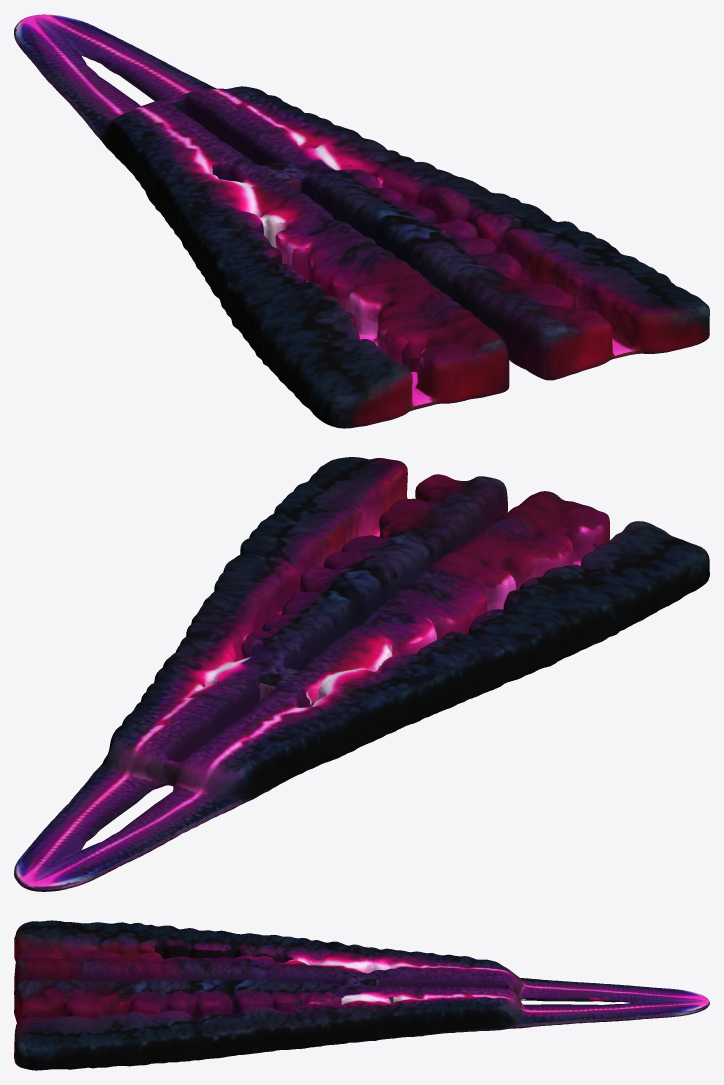
The model's file is yggdrasil-bifrost-ribbon-merged-2026-04-25t02-17-02-006z-generated-2026-05-17T21-26-55-097Z.high.glb.
3 views of the same model, one above another, from view 1: azimuth 30°, elevation 25°; view 2: azimuth 150°, elevation 25°; view 3: azimuth 270°, elevation 25° (orthographic). The views are drawn at different scales.
Visible parts, largest first — view 1: temp_mesh.ply; view 2: temp_mesh.ply; view 3: temp_mesh.ply.
Part boxes in pixels (box(x1,y1,x2,y2)): temp_mesh.ply: box(14, 14, 709, 428); temp_mesh.ply: box(14, 457, 709, 891); temp_mesh.ply: box(14, 920, 709, 1070).
Size of the model in its own units: 0.8799 by 0.1133 by 1.97.
Materials: 1 (1 with a texture image).
